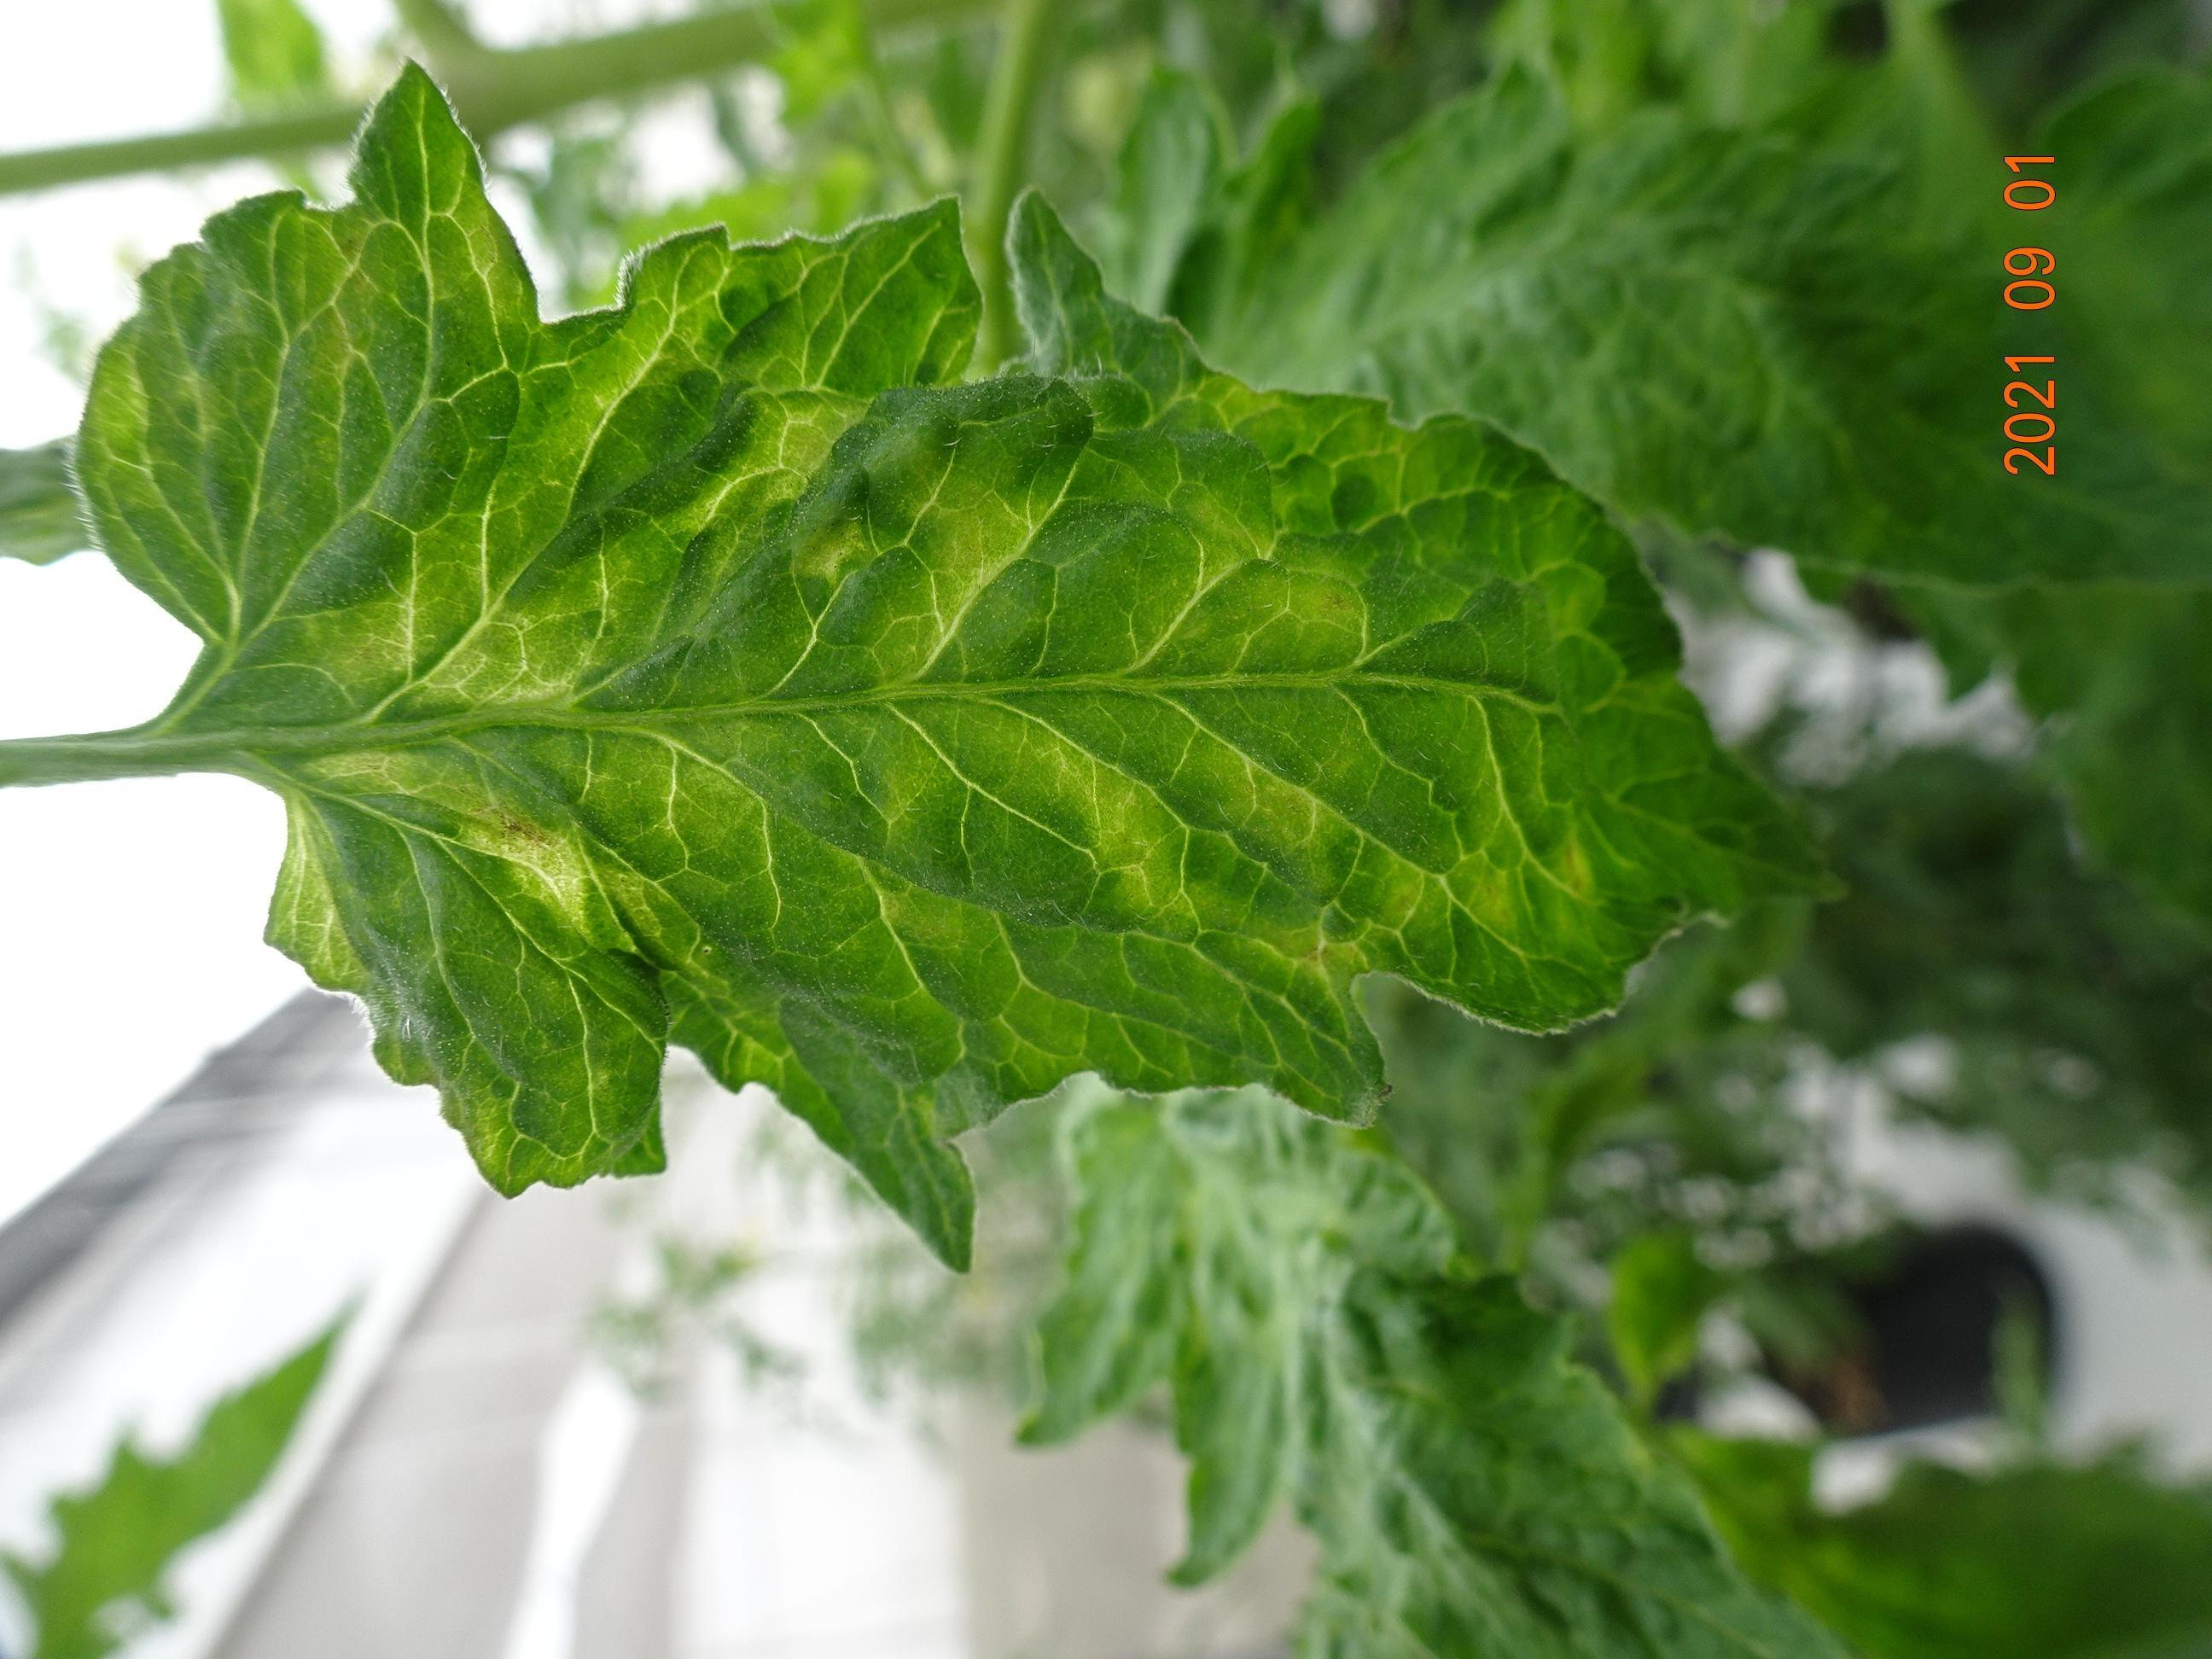Rugose leaf: (277, 207, 1810, 1256), (73, 70, 540, 730)
